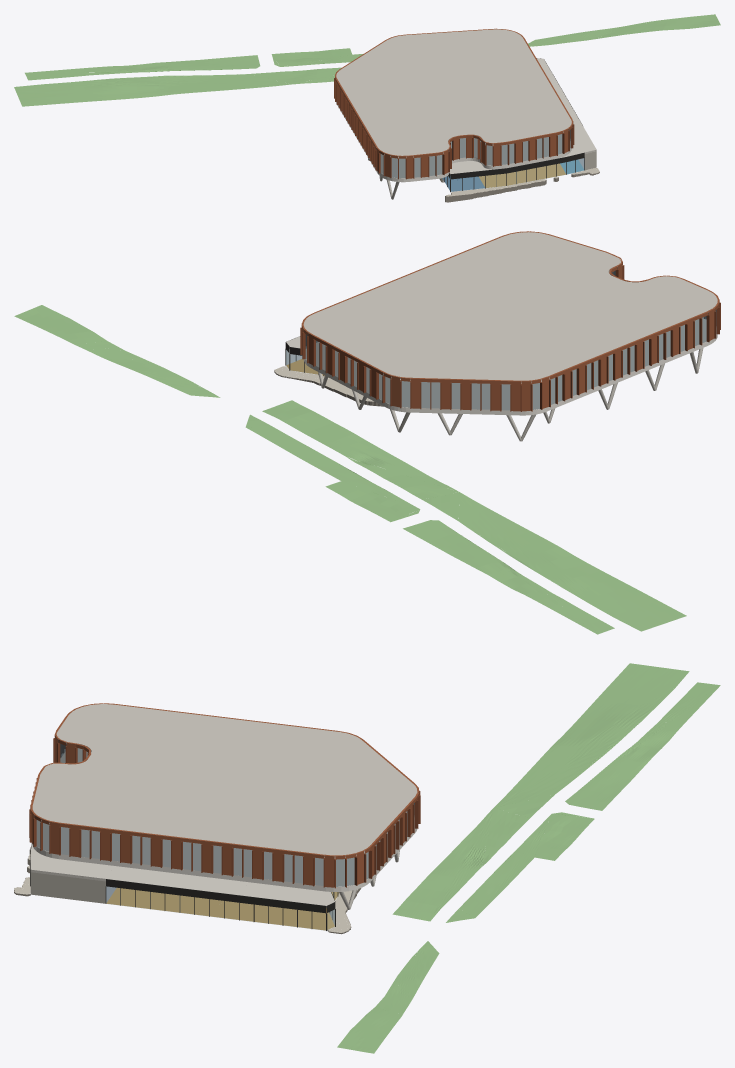
The model's file is obra.glb.
The picture shows the model from 3 angles, top to bottom: view 1: azimuth 30°, elevation 25°; view 2: azimuth 150°, elevation 25°; view 3: azimuth 270°, elevation 25°; orthographic projection. The views are drawn at different scales.
Visible parts, largest first — view 1: cab2 (×5), cabext, cab1 (×5), aceras (×2); view 2: cab2 (×6), cabext, aceras; view 3: cab2 (×5), cabext, cab1 (×5), aceras.
Boxes of the visible parts, x1,y1,x2,y2 form: cab2 (×5): (334, 28, 574, 182); cabext: (14, 14, 720, 106); cab1 (×5): (442, 58, 596, 191); aceras (×2): (439, 168, 599, 202); cab2 (×6): (300, 231, 720, 441); cabext: (14, 305, 686, 634); aceras: (274, 366, 373, 401); cab2 (×5): (29, 703, 420, 891); cabext: (337, 663, 720, 1053); cab1 (×5): (30, 843, 338, 930); aceras: (14, 846, 358, 932).
Bounding box in the file's own units: 119 × 10.12 × 87.33.
